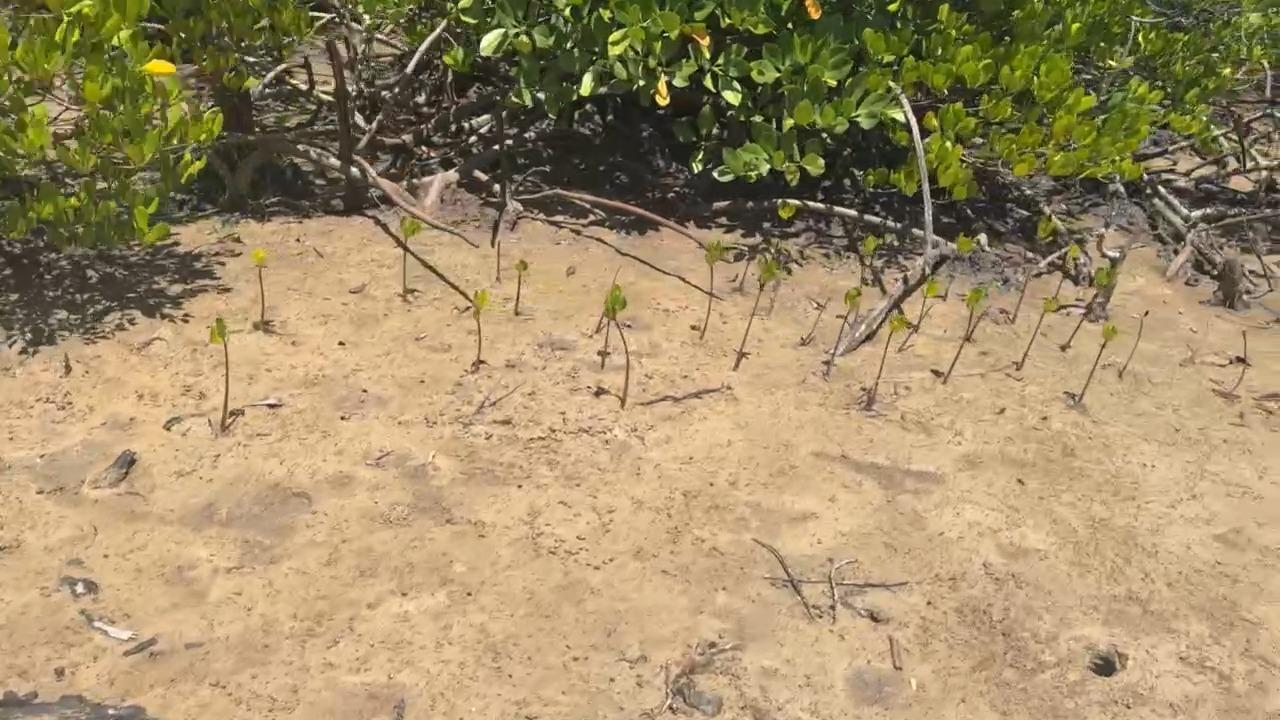Tree: (732, 260, 779, 370), (1011, 210, 1056, 324), (1062, 267, 1114, 351), (944, 288, 989, 384), (866, 314, 907, 407), (1017, 295, 1062, 368), (604, 284, 630, 408), (825, 286, 861, 375), (1078, 325, 1118, 402), (699, 239, 723, 340), (209, 315, 230, 430), (595, 265, 624, 335), (1120, 309, 1150, 376), (896, 303, 933, 354), (399, 215, 422, 295), (915, 276, 945, 332), (1053, 244, 1080, 298), (801, 299, 831, 345), (252, 247, 268, 320), (473, 289, 487, 365), (857, 236, 877, 288), (513, 258, 530, 317), (969, 302, 992, 339), (958, 234, 976, 263), (602, 318, 612, 369), (496, 240, 503, 278)
